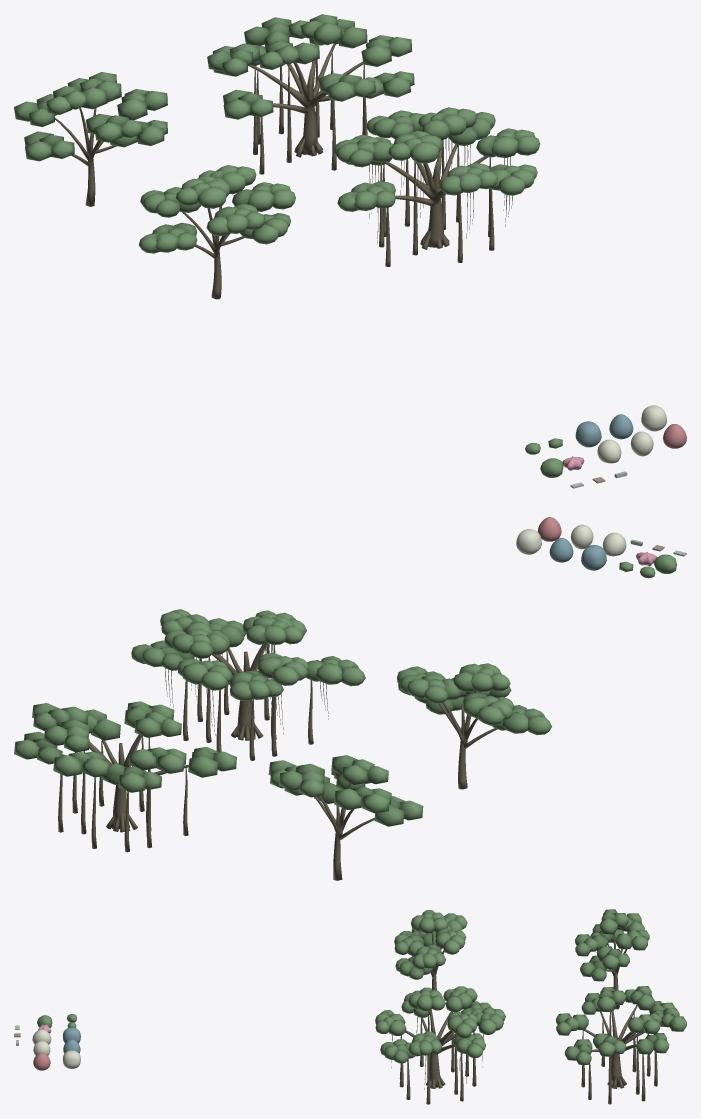
The model's file is kingdom-world-kit.glb.
The picture shows the model from 3 angles, top to bottom: view 1: azimuth 30°, elevation 25°; view 2: azimuth 150°, elevation 25°; view 3: azimuth 270°, elevation 25°; orthographic projection. The views are drawn at different scales.
Visible parts, largest first — view 1: Kit_Banyan_Full_Crown, Kit_Banyan_Distant_Crown, Kit_Tree_Full_Crown, Kit_Tree_Distant_Crown, Kit_Banyan_Full_Wood, Kit_Banyan_Distant_Wood, Kit_Tree_Distant_Wood, Kit_Tree_Full_Wood; view 2: Kit_Banyan_Full_Crown, Kit_Banyan_Distant_Crown, Kit_Tree_Full_Crown, Kit_Tree_Distant_Crown, Kit_Banyan_Full_Wood, Kit_Banyan_Distant_Wood, Kit_Tree_Full_Wood, Kit_Tree_Distant_Wood; view 3: Kit_Banyan_Full_Crown, Kit_Banyan_Distant_Crown, Kit_Tree_Full_Crown, Kit_Tree_Distant_Crown, Kit_Banyan_Full_Wood, Kit_Banyan_Distant_Wood.
Boxes of the visible parts, box(x1,y1,x2,y2) form: Kit_Banyan_Full_Crown: box(333, 107, 540, 211); Kit_Banyan_Distant_Crown: box(207, 14, 414, 119); Kit_Tree_Full_Crown: box(139, 165, 295, 253); Kit_Tree_Distant_Crown: box(14, 72, 167, 161); Kit_Banyan_Full_Wood: box(369, 136, 512, 266); Kit_Banyan_Distant_Wood: box(248, 43, 367, 174); Kit_Tree_Distant_Wood: box(55, 107, 116, 206); Kit_Tree_Full_Wood: box(182, 206, 244, 299); Kit_Banyan_Full_Crown: box(131, 609, 365, 701); Kit_Banyan_Distant_Crown: box(14, 701, 236, 792); Kit_Tree_Full_Crown: box(397, 663, 551, 735); Kit_Tree_Distant_Crown: box(268, 755, 423, 826); Kit_Banyan_Full_Wood: box(165, 643, 328, 760); Kit_Banyan_Distant_Wood: box(58, 734, 188, 852); Kit_Tree_Full_Wood: box(438, 690, 497, 789); Kit_Tree_Distant_Wood: box(314, 783, 374, 880); Kit_Banyan_Full_Crown: box(375, 986, 505, 1063); Kit_Banyan_Distant_Crown: box(556, 986, 686, 1064); Kit_Tree_Full_Crown: box(394, 910, 467, 979); Kit_Tree_Distant_Crown: box(575, 909, 649, 981); Kit_Banyan_Full_Wood: box(391, 1009, 483, 1104); Kit_Banyan_Distant_Wood: box(581, 1005, 657, 1104).
Bounding box in the file's own units: 36.29 × 10.86 × 74.13.
